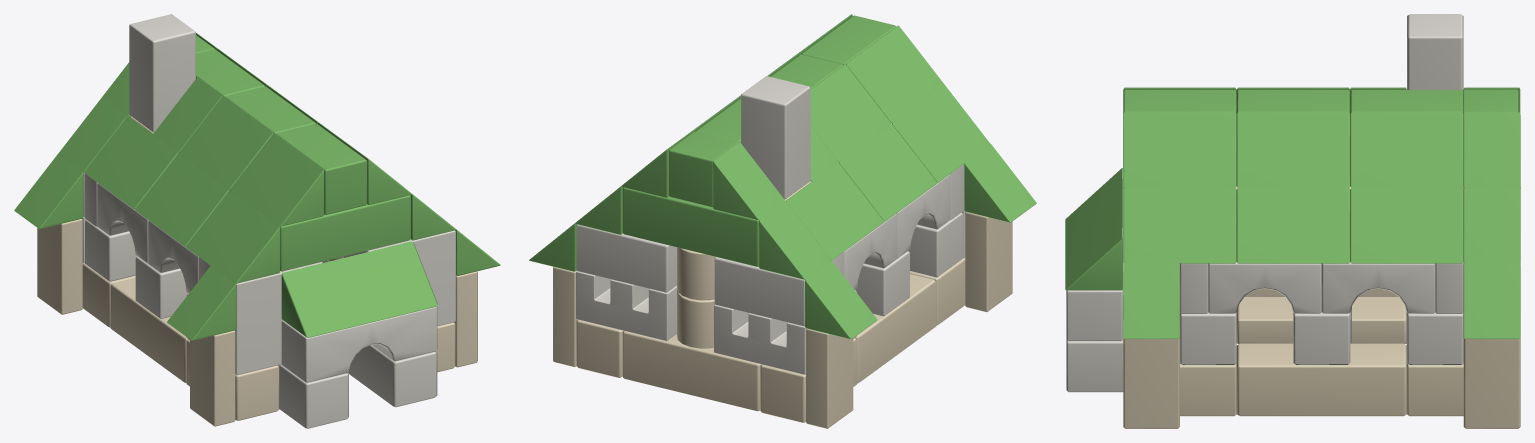
Rendered from house up.fbx.
3 views of the same model, side by side, from view 1: azimuth 30°, elevation 25°; view 2: azimuth 150°, elevation 25°; view 3: azimuth 270°, elevation 25° (orthographic). The views are drawn at different scales.
Parts seen in each view (by area): view 1: pCube412, pCube395, pCube486, pCube459, pCube460, pCube449, pCube447, pCube448, pCube461, pCube410, pCube484, pCube406 (+24 smaller); view 2: pCube413, pCube486, pCube507, pCube448, pCube460, pCube449, pCube447, pCube662, pCube664, pCube461, pCube663, pCube665 (+26 smaller); view 3: pCube500, pCube454, pCube453, pCube479, pCube455, pCube478, pCube480, pCube412, pCube418, pCube666, pCube417, pCube498 (+20 smaller).
Part boxes in pixels (x1,y1,x2,y2): pCube412: (281, 241, 437, 337); pCube395: (281, 306, 437, 382); pCube486: (129, 14, 195, 132); pCube459: (280, 195, 410, 271); pCube460: (230, 133, 324, 226); pCube449: (186, 190, 279, 283); pCube447: (84, 115, 178, 209); pCube448: (135, 153, 229, 246); pCube461: (179, 96, 273, 189); pCube410: (235, 262, 322, 375); pCube484: (276, 124, 367, 214); pCube406: (190, 330, 235, 426); pCube413: (622, 331, 761, 411); pCube486: (741, 76, 810, 199); pCube507: (622, 187, 758, 266); pCube448: (839, 124, 937, 221); pCube460: (846, 25, 944, 122); pCube449: (892, 85, 990, 182); pCube447: (786, 162, 884, 260); pCube662: (576, 271, 677, 341); pCube664: (576, 224, 676, 292); pCube461: (810, 64, 891, 161); pCube663: (714, 304, 806, 374); pCube665: (714, 257, 804, 326); pCube500: (1236, 343, 1406, 416); pCube454: (1236, 187, 1350, 263); pCube453: (1350, 187, 1463, 263); pCube479: (1236, 112, 1350, 187); pCube455: (1123, 187, 1236, 263); pCube478: (1350, 112, 1463, 187); pCube480: (1123, 112, 1236, 187); pCube412: (1065, 168, 1122, 290); pCube418: (1463, 337, 1520, 428); pCube666: (1236, 297, 1406, 343); pCube417: (1123, 337, 1179, 428); pCube498: (1321, 262, 1435, 313).
Bounding box in the file's own units: 73.64 × 63 × 84.17.
